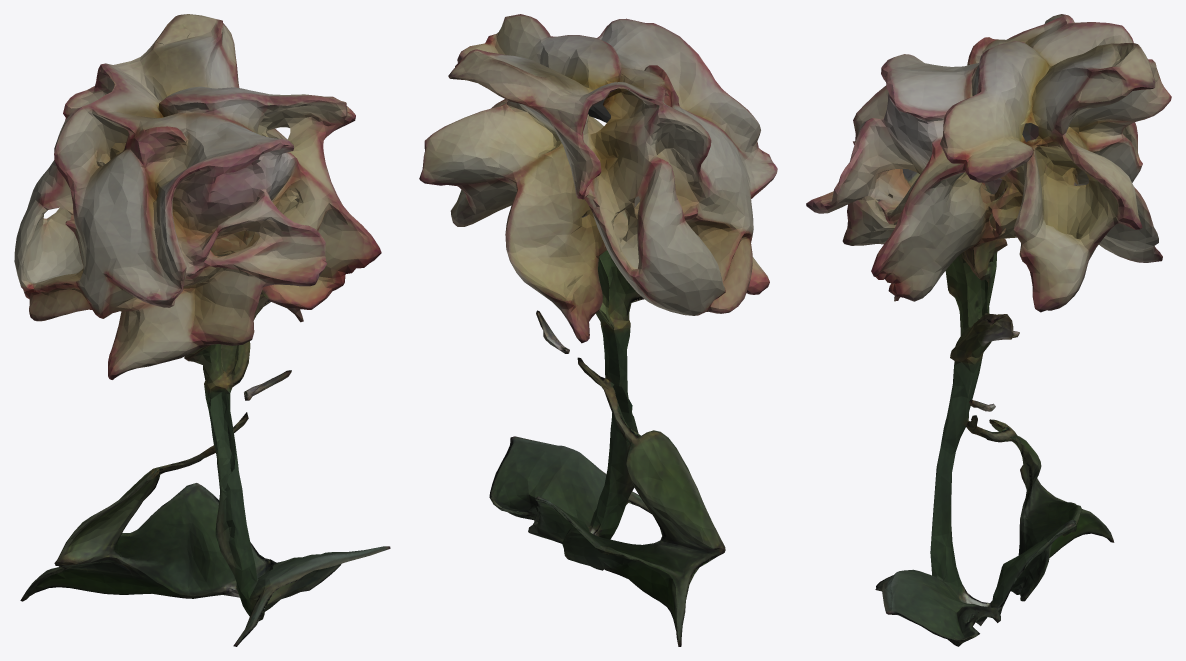
The picture shows the model from 3 angles, left to right: view 1: azimuth 30°, elevation 25°; view 2: azimuth 150°, elevation 25°; view 3: azimuth 270°, elevation 25°; orthographic projection. The views are drawn at different scales.
Parts seen in each view (by area): view 1: world; view 2: world; view 3: world.
Boxes of the visible parts, <box> form: world: <box>14,14,390,646</box>; world: <box>419,14,777,646</box>; world: <box>806,14,1171,646</box>.
Size of the model in its own units: 0.5549 by 0.973 by 0.5478.
Materials: 1 (1 with a texture image).
